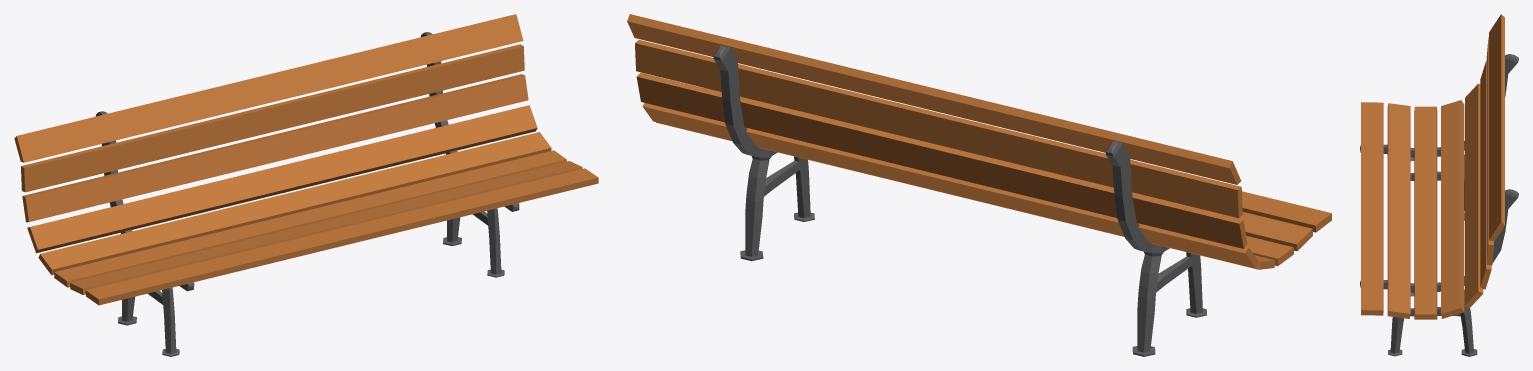
File: Banco.fbx
The picture shows the model from 3 angles, left to right: view 1: azimuth 30°, elevation 25°; view 2: azimuth 150°, elevation 25°; view 3: azimuth 270°, elevation 25°; orthographic projection. The views are drawn at different scales.
Visible parts, largest first — view 1: Cube.001; view 2: Cube.001; view 3: Cube.001.
Part boxes in pixels (x1,y1,x2,y2): Cube.001: (14,14,598,356); Cube.001: (627,14,1331,356); Cube.001: (1360,14,1518,356).
Bounding box in the file's own units: 316 × 117 × 102.
